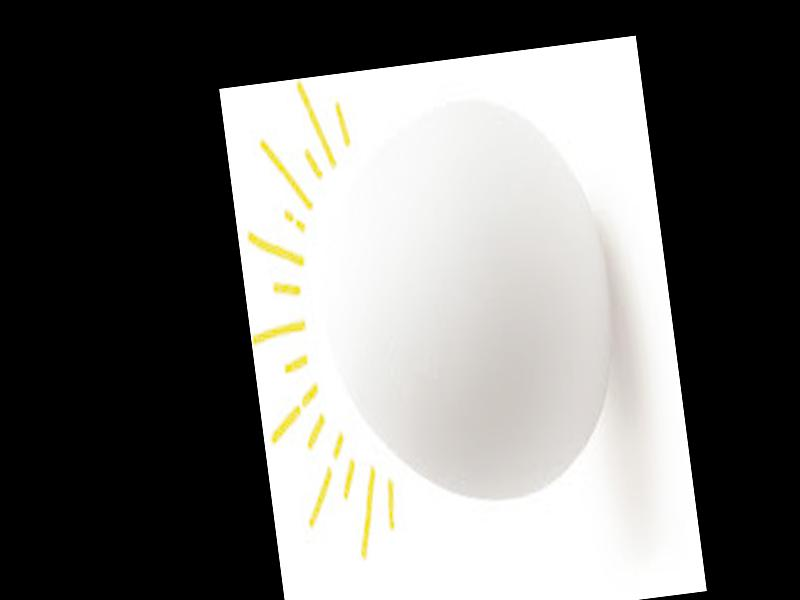Eggs: (302, 82, 633, 518)
